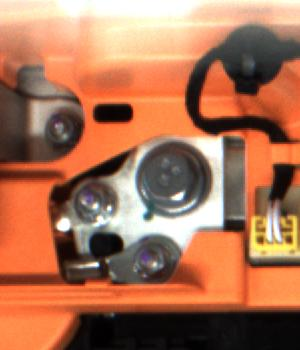nut_b: (125, 135, 215, 217)
